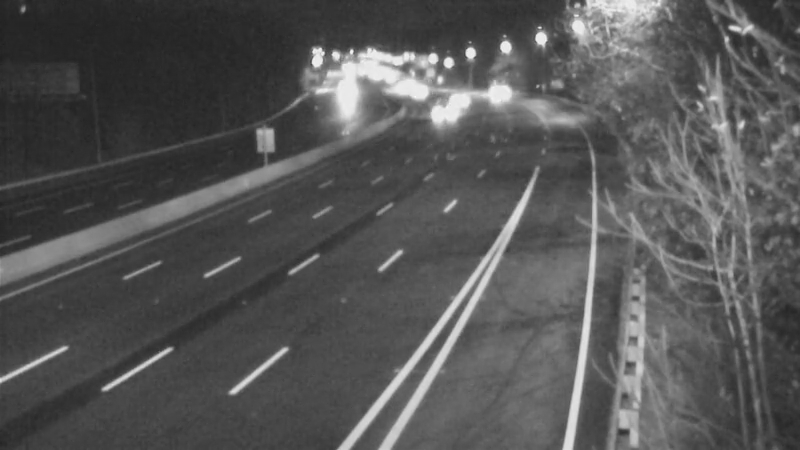vehicle: (393, 68, 443, 118), (473, 65, 523, 115), (433, 73, 483, 123), (414, 92, 464, 142), (322, 70, 372, 120)
